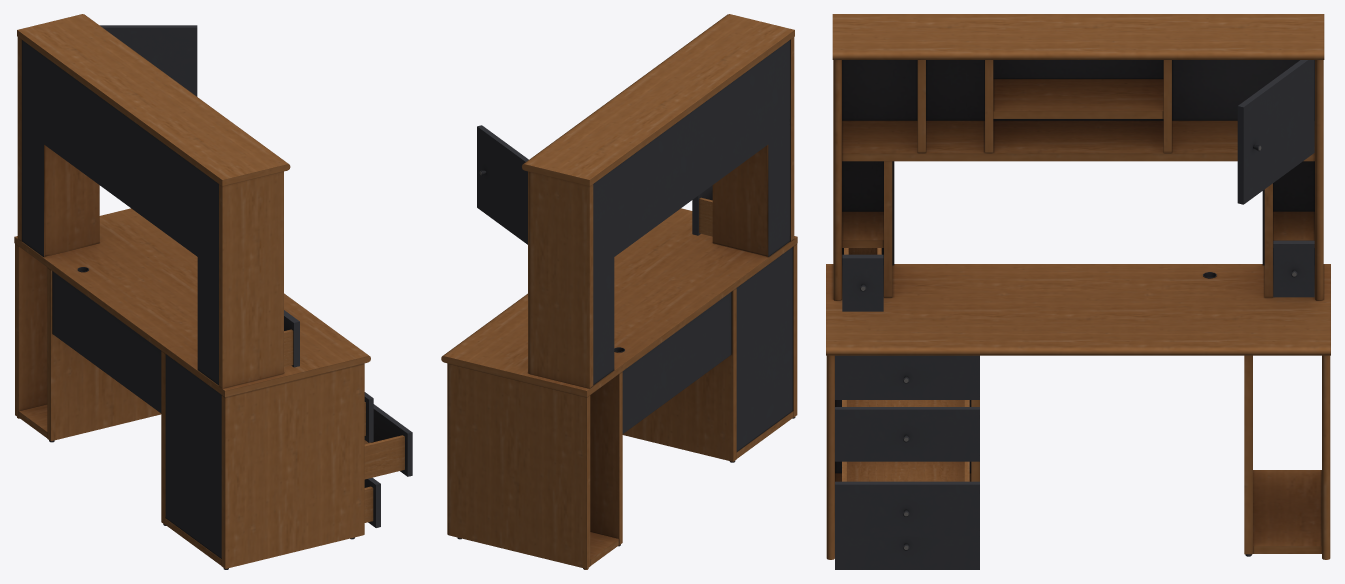
The model's file is modern_desk.fbx.
3 renders of one model, left to right at view 1: azimuth 30°, elevation 25°; view 2: azimuth 150°, elevation 25°; view 3: azimuth 270°, elevation 25°, orthographic. The views are drawn at different scales.
Visible parts, largest first — view 1: desk, door, drawer.001, drawer_small, drawer; view 2: desk, door, drawer_small; view 3: desk, drawer.001, drawer.002, door, drawer.003, drawer, drawer_small, drawer_small.001.
Boxes of the visible parts, <box> form: desk: <box>14,14,370,569</box>; door: <box>100,25,197,96</box>; drawer.001: <box>364,404,412,479</box>; drawer_small: <box>284,310,299,367</box>; drawer: <box>364,477,380,527</box>; desk: <box>441,14,797,569</box>; door: <box>477,125,528,244</box>; drawer_small: <box>692,185,712,236</box>; desk: <box>826,14,1330,559</box>; drawer.001: <box>835,461,979,536</box>; drawer.002: <box>835,400,979,461</box>; door: <box>1237,60,1314,204</box>; drawer.003: <box>835,355,979,399</box>; drawer: <box>835,536,979,569</box>; drawer_small: <box>842,248,883,311</box>; drawer_small.001: <box>1273,240,1314,297</box>.
Bounding box in the file's own units: 80.69 × 153 × 150.
